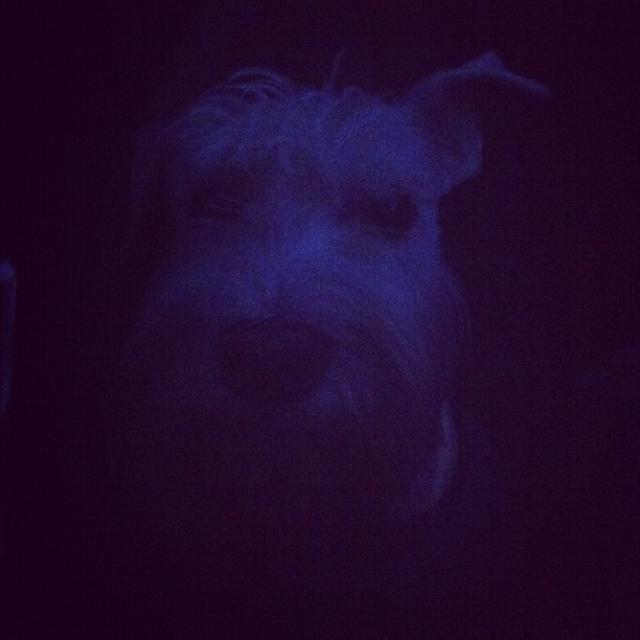Dog: (54, 15, 640, 640)
